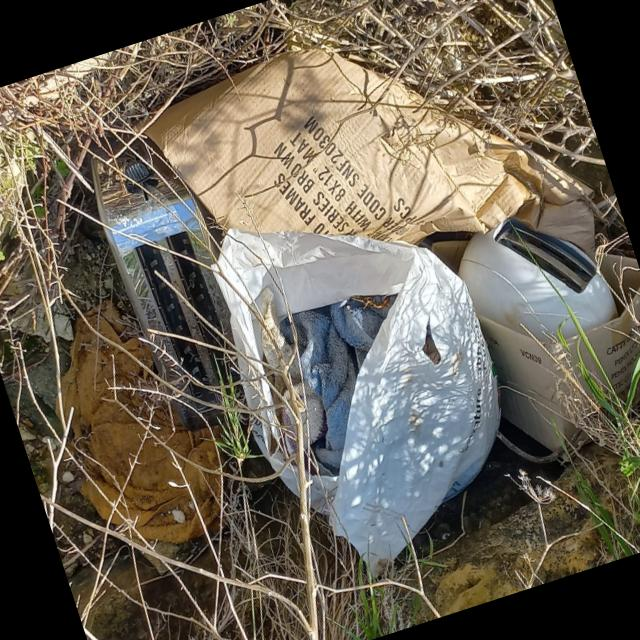Carton: (138, 46, 594, 246), (476, 248, 640, 457)
Other litter: (89, 138, 247, 433), (59, 300, 231, 550), (247, 284, 397, 478), (459, 219, 615, 340), (430, 239, 469, 276)
Plastic bag - wrapper: (211, 230, 503, 585)
